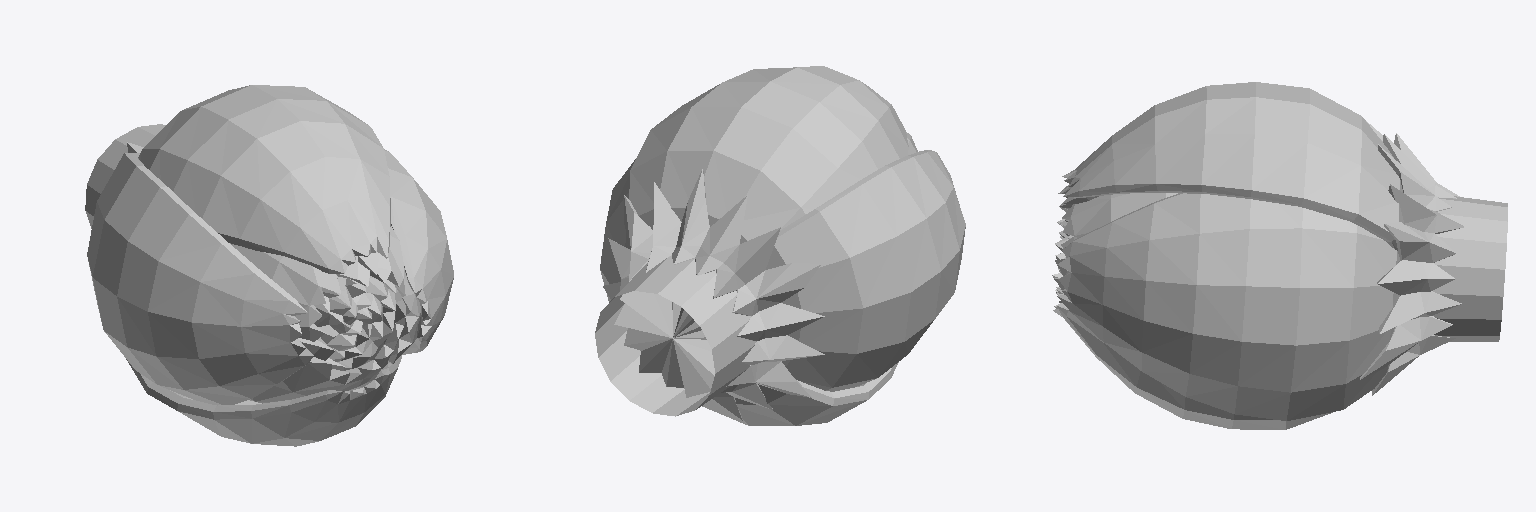
File: flower.obj
3 renders of one model, left to right at view 1: azimuth 30°, elevation 25°; view 2: azimuth 150°, elevation 25°; view 3: azimuth 270°, elevation 25°, orthographic.
Parts seen in each view (by area): view 1: flower; view 2: flower; view 3: flower.
Part boxes in pixels (x1,y1,x2,y2): flower: (85, 85, 453, 446); flower: (595, 66, 965, 425); flower: (1052, 82, 1507, 429).
Size of the model in its own units: 18.85 by 18.84 by 23.86.